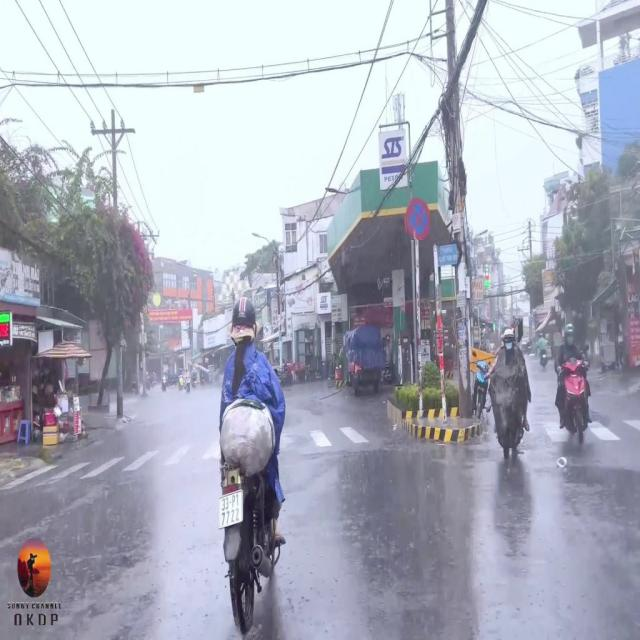cam_dung_xe_va_do_xe: (404, 196, 430, 240)
